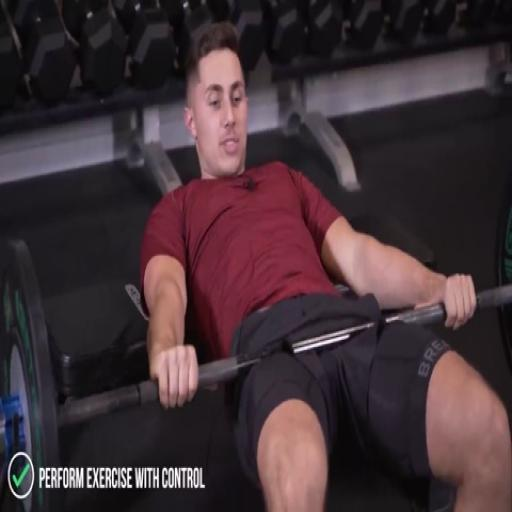exercise: (136, 22, 511, 510)
